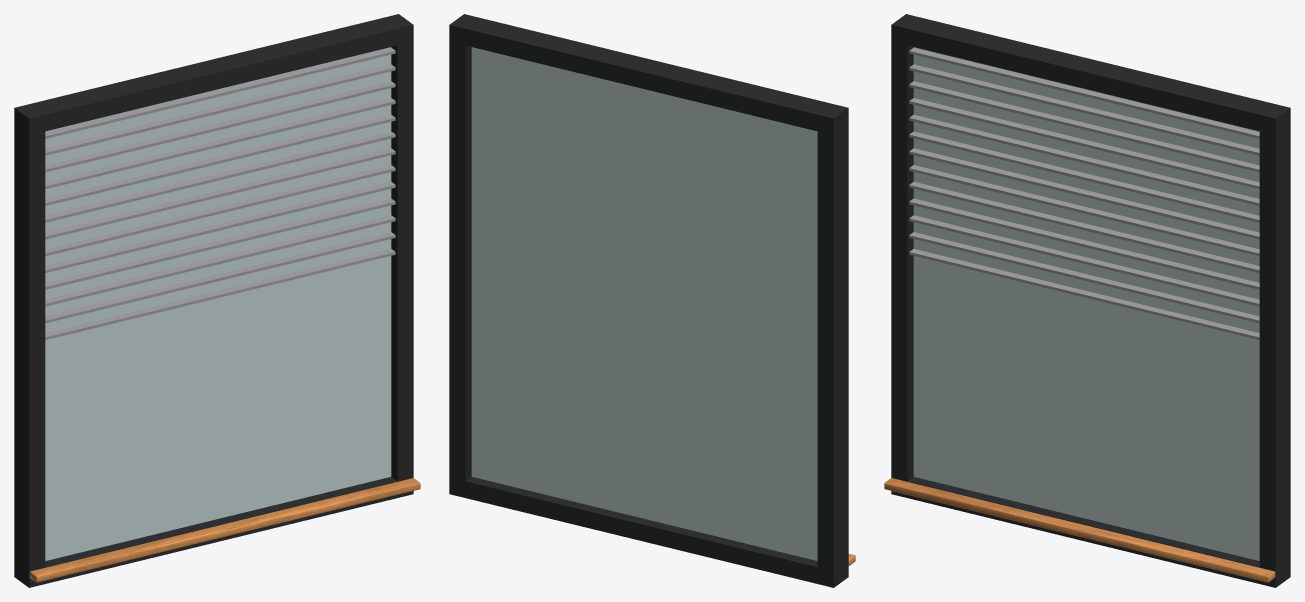
The model's file is architecture.window-with-blinds.glb.
3 views of the same model, side by side, from view 1: azimuth 30°, elevation 25°; view 2: azimuth 150°, elevation 25°; view 3: azimuth 330°, elevation 25° (orthographic).
Visible parts, largest first — view 1: architecture.window-with-blinds.001; view 2: architecture.window-with-blinds.001; view 3: architecture.window-with-blinds.001.
Boxes of the visible parts, x1,y1,x2,y2 form: architecture.window-with-blinds.001: (14,14,420,587); architecture.window-with-blinds.001: (449,14,855,587); architecture.window-with-blinds.001: (884,14,1290,587).
Bounding box in the file's own units: 1.2 × 1.4 × 0.12.
4 materials, 1 textured.
